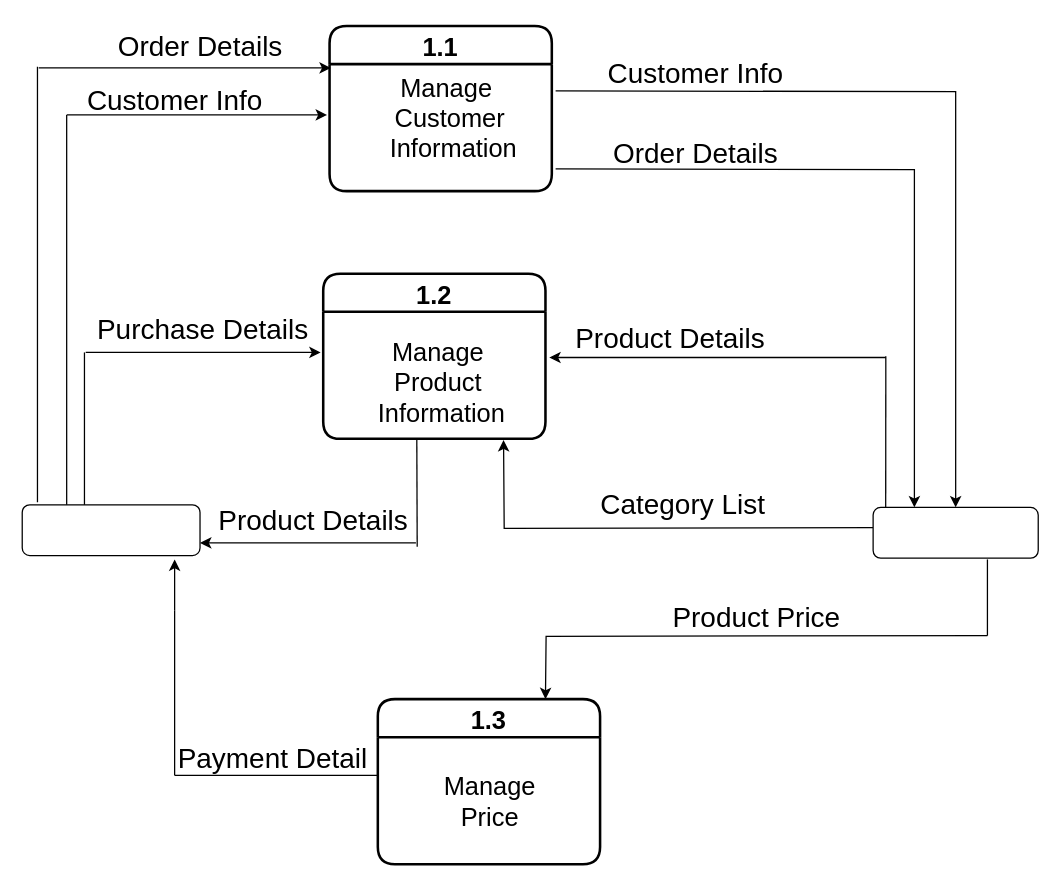
Image size: 1060x886. Some labels were removed from this diagram. Here are the shapes that lost their labels. From the top down, the box of each, then its label:
(21, 504, 200, 556): Customer
(872, 506, 1038, 558): Admin
